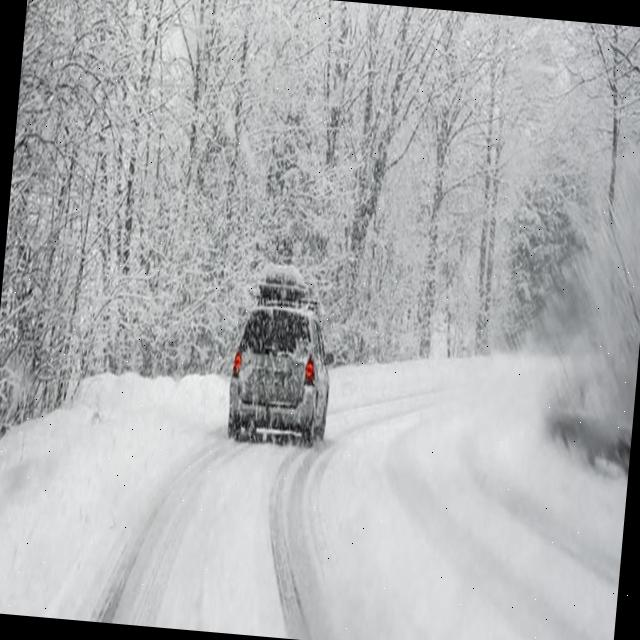car: (222, 294, 340, 452)
